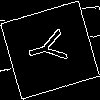Y: (25, 24, 78, 71)
